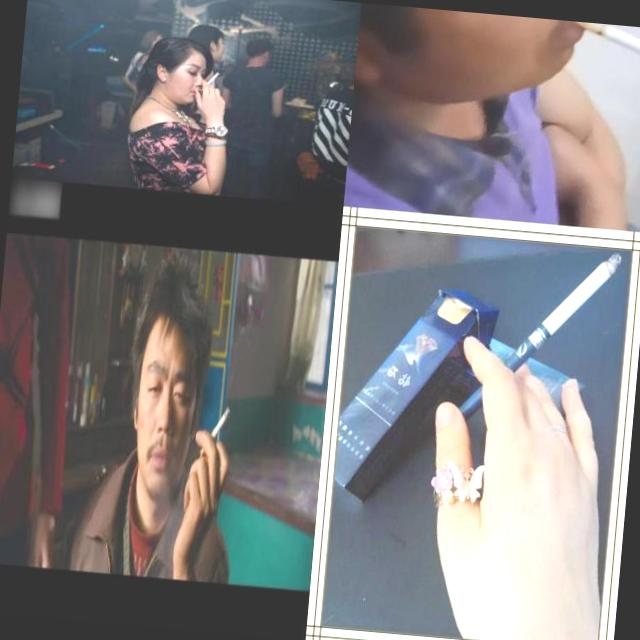cigarette: (434, 233, 626, 439), (569, 21, 640, 71), (198, 404, 230, 458), (205, 70, 220, 86)
